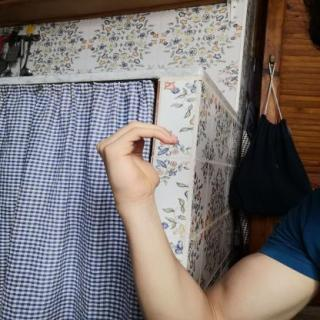HAA: (85, 114, 196, 204)
